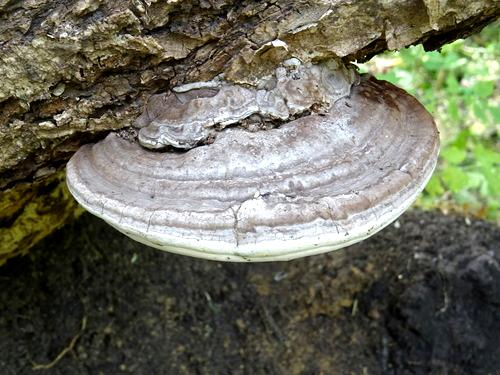Ganoderma - Fruit Body: (62, 52, 448, 266)
